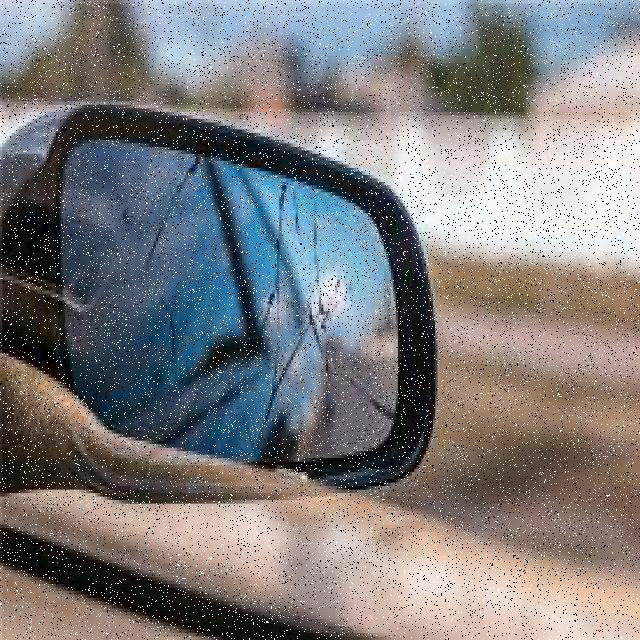Sidemirror-Damage: (16, 84, 442, 514)
